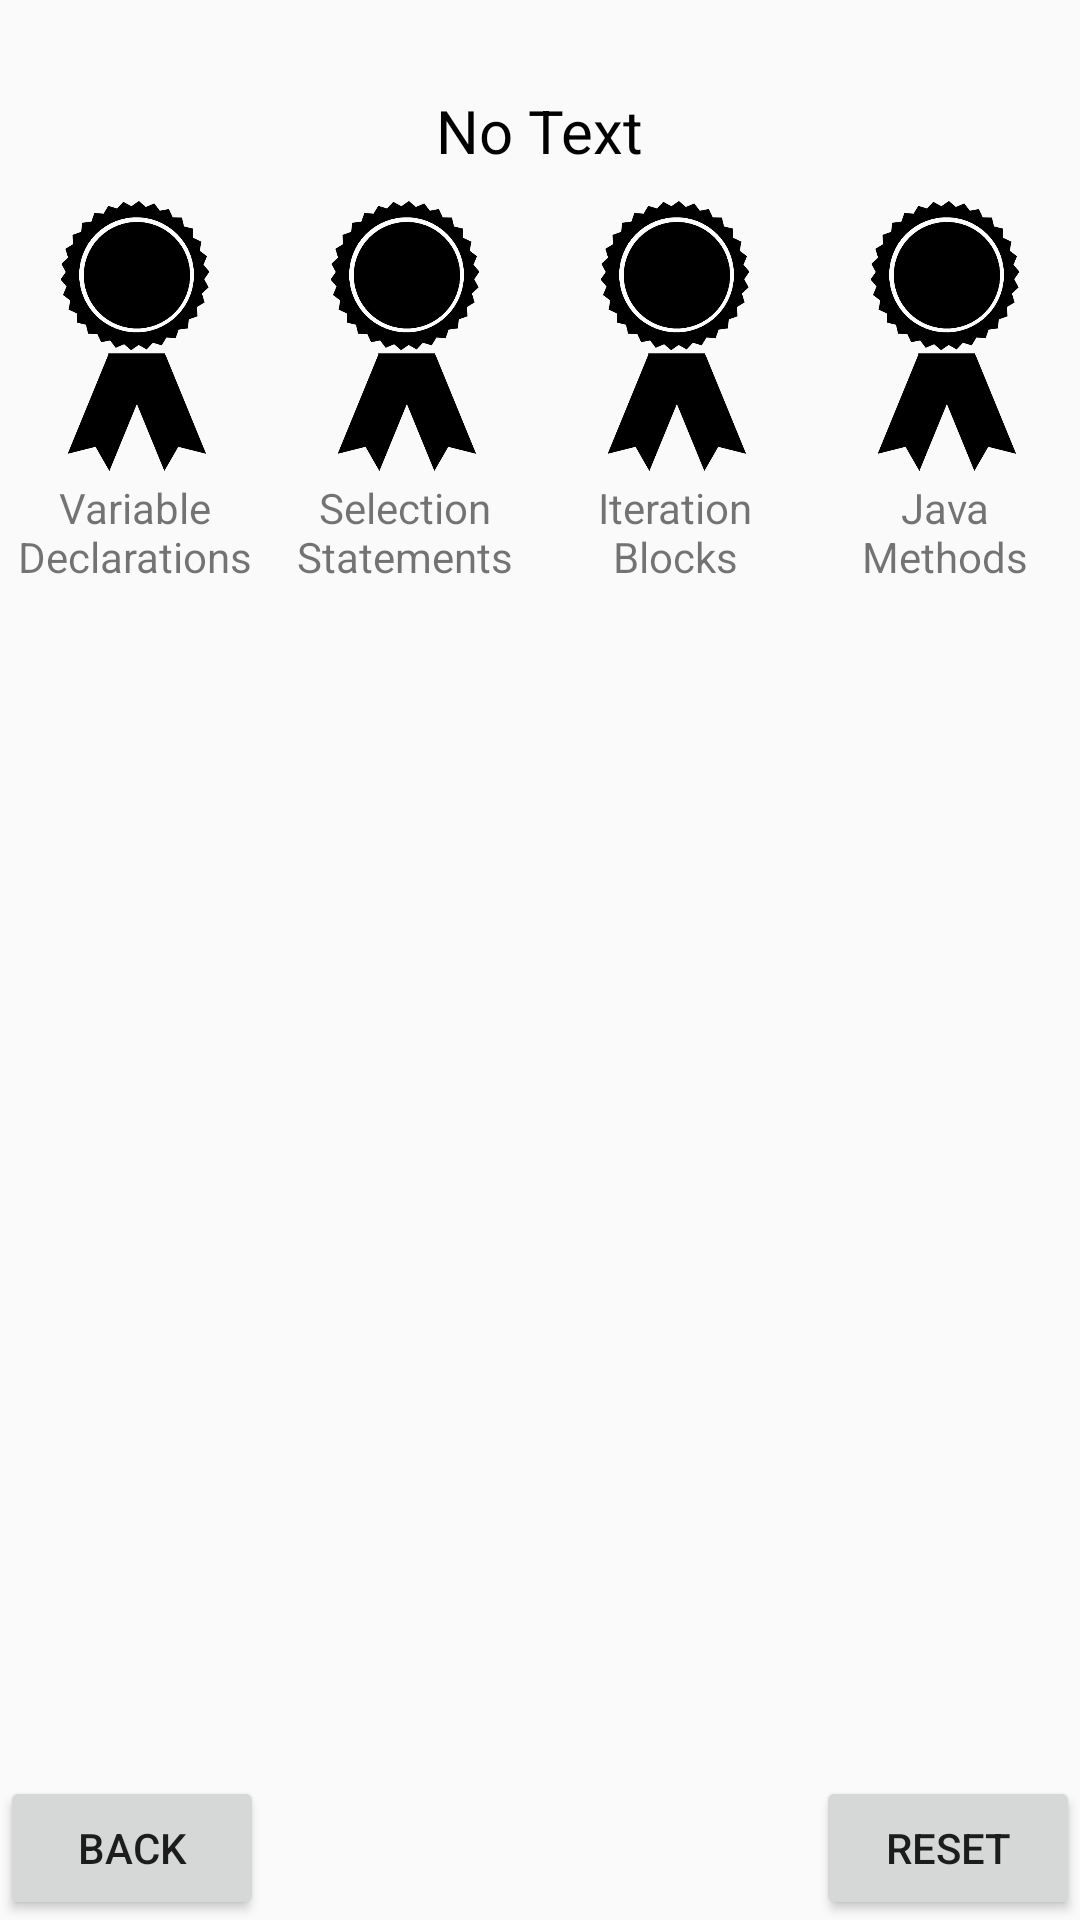

Point at icon controls on the screen. Image size 1080 x 1920, points as point (x, y).
badge: point (135, 336), point (405, 336), point (675, 336), point (945, 336)
